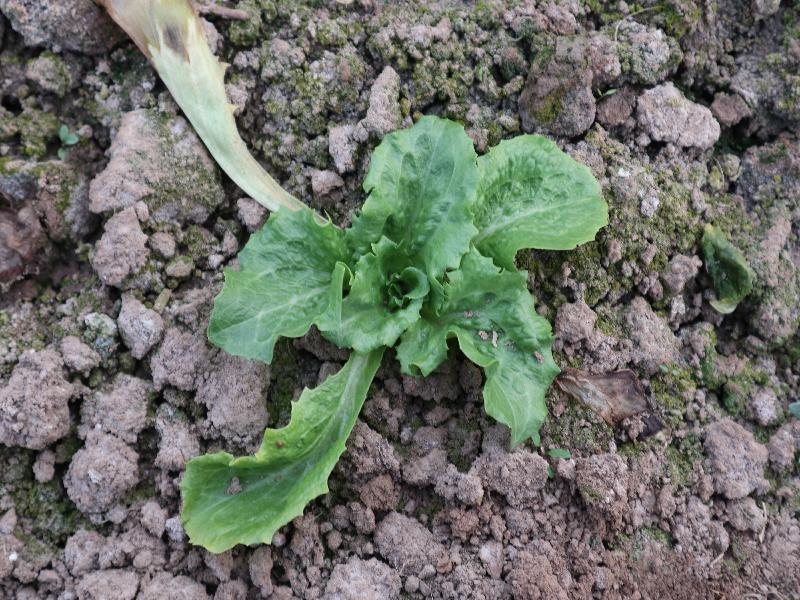lettuce: (206, 113, 610, 450)
